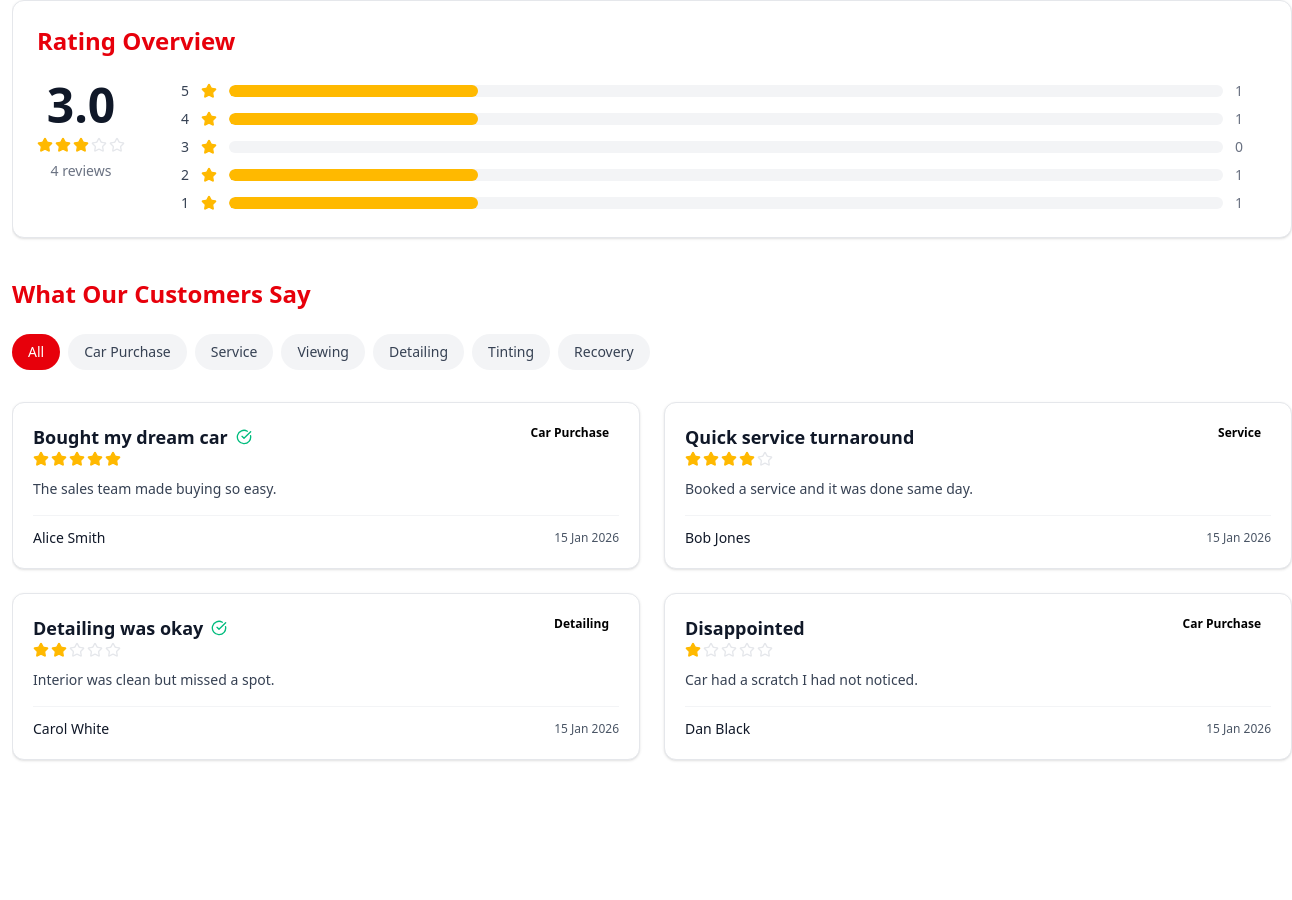
ReviewsPageContent › 📋 filtering by a service type narrows the visible cards
Note: Click the "Car Purchase" filter tab.
Click the tab "Car Purchase": (128, 352) [68,334,187,370]
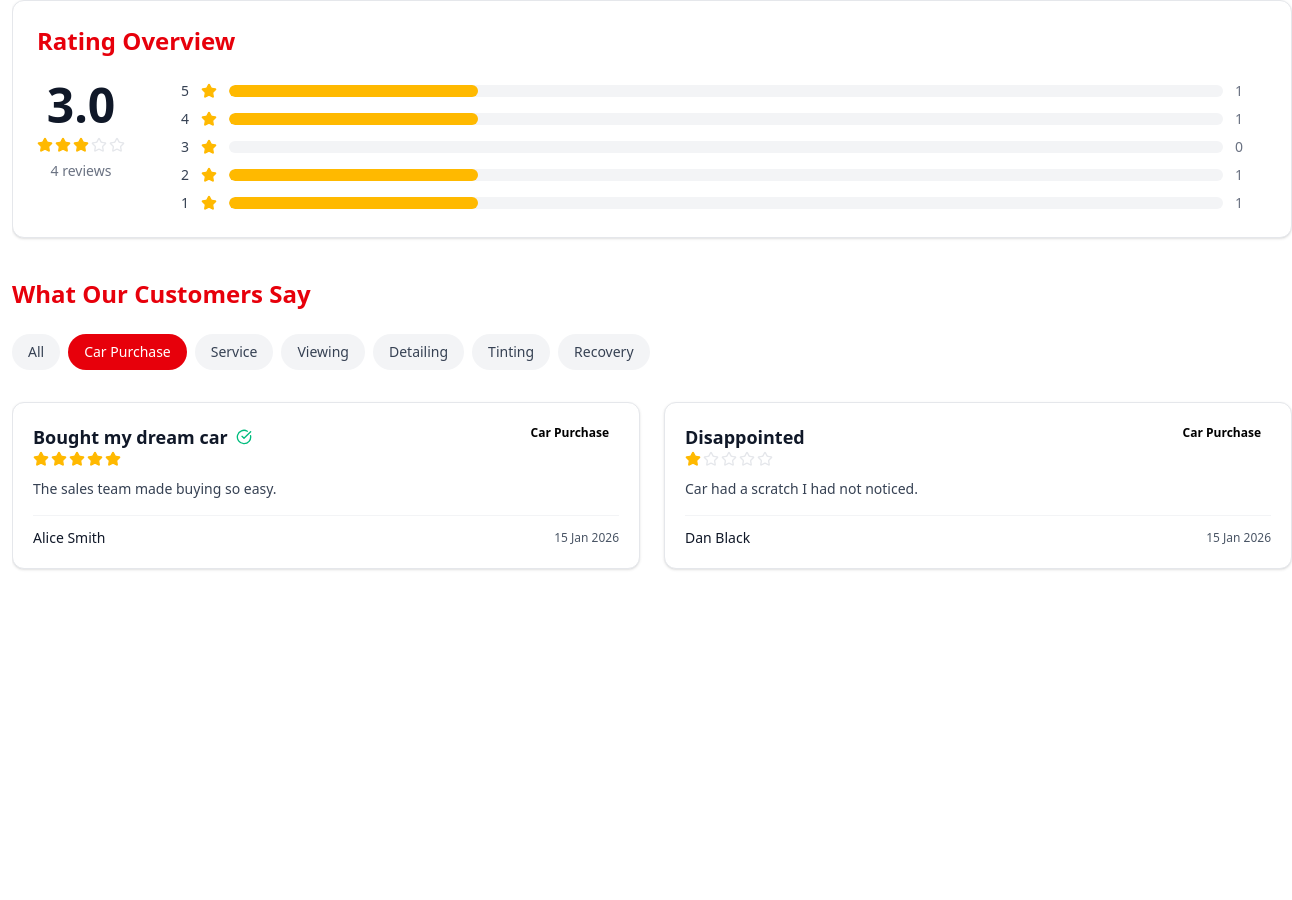
Expected: the heading "Bought my dream car" is shown, [33,423,228,451]
Now the heading "Quick service turnaround" is gone
Now the heading "Detailing was okay" is gone
